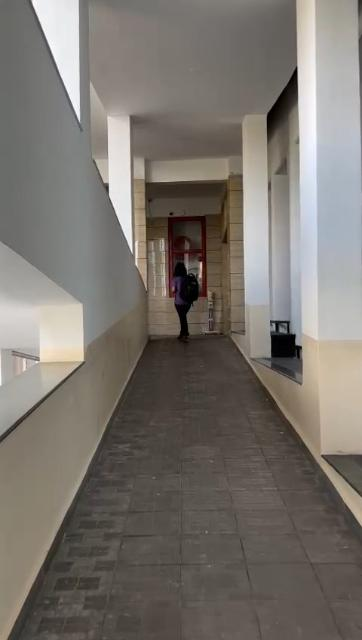floor: (12, 338, 362, 640)
moving-obj: (178, 245, 200, 322)
wall: (0, 0, 140, 640), (300, 2, 362, 448), (106, 117, 146, 351), (238, 116, 270, 360), (148, 218, 166, 336), (207, 214, 225, 288)
